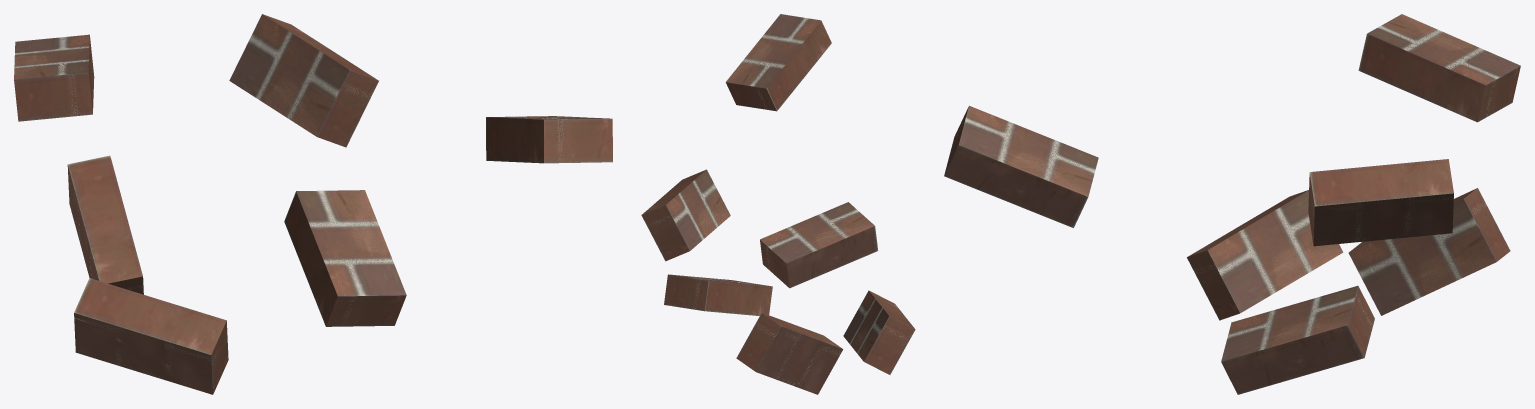
Rendered from bricks_2.dae.
The picture shows the model from 3 angles, left to right: view 1: azimuth 30°, elevation 25°; view 2: azimuth 150°, elevation 25°; view 3: azimuth 270°, elevation 25°; orthographic projection. The views are drawn at different scales.
Parts seen in each view (by area): view 1: group_2, group_3, group_4, group_6, group_5, group_1; view 2: group_5, group_1, group_6, group_4, group_3, group_2; view 3: group_1, group_4, group_2, group_5, group_3, group_6.
Boxes of the visible parts, left/top/right/bottom form: group_2: left=284, top=190, right=406, bottom=326; group_3: left=74, top=278, right=228, bottom=394; group_4: left=229, top=14, right=378, bottom=147; group_6: left=67, top=155, right=143, bottom=294; group_5: left=14, top=34, right=94, bottom=121; group_1: left=486, top=116, right=612, bottom=163; group_5: left=760, top=202, right=878, bottom=288; group_1: left=725, top=14, right=831, bottom=111; group_6: left=736, top=313, right=843, bottom=394; group_4: left=641, top=169, right=730, bottom=261; group_3: left=843, top=290, right=915, bottom=374; group_2: left=664, top=274, right=772, bottom=315; group_1: left=944, top=105, right=1098, bottom=227; group_4: left=1308, top=159, right=1453, bottom=246; group_2: left=1221, top=285, right=1374, bottom=394; group_5: left=1358, top=14, right=1520, bottom=122; group_3: left=1187, top=190, right=1343, bottom=320; group_6: left=1348, top=188, right=1510, bottom=315.
Size of the model in its own units: 13.71 by 19.05 by 11.22.
Materials: 3 (3 with a texture image).
